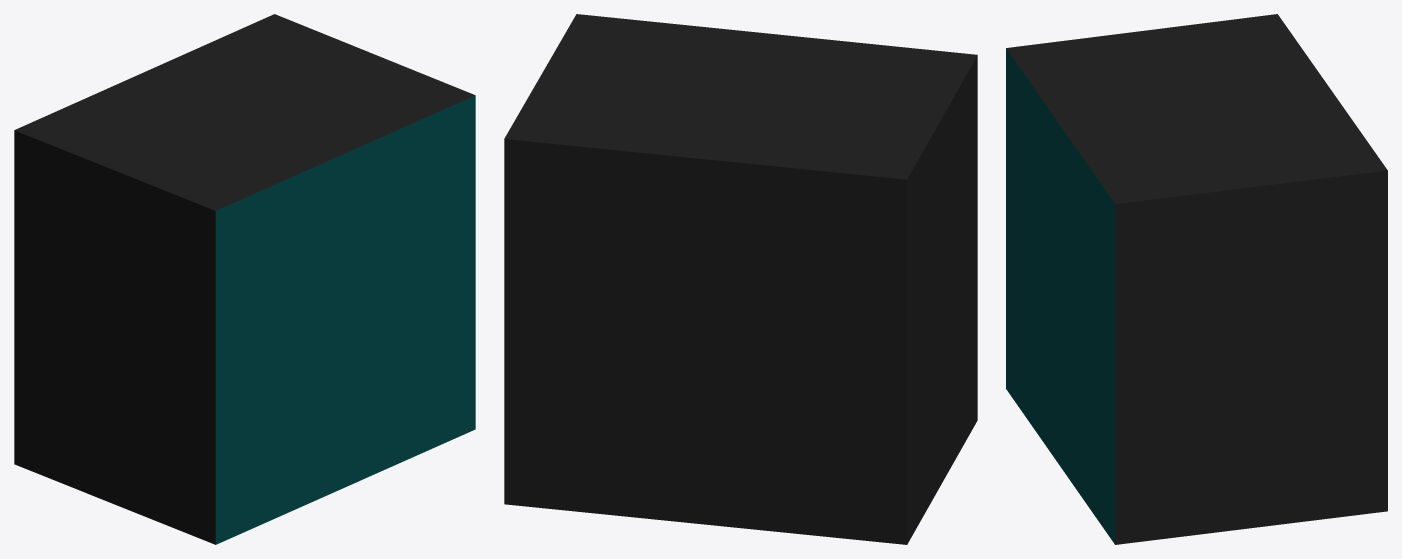
File: B_Werth_53_.FBX
The picture shows the model from 3 angles, left to right: view 1: azimuth 30°, elevation 25°; view 2: azimuth 150°, elevation 25°; view 3: azimuth 270°, elevation 25°; orthographic projection. The views are drawn at different scales.
Parts seen in each view (by area): view 1: B_Werth_53, B_Werth_53_front; view 2: B_Werth_53; view 3: B_Werth_53, B_Werth_53_front.
Part boxes in pixels (x1,y1,x2,y2): B_Werth_53: [14, 14, 475, 544]; B_Werth_53_front: [215, 95, 475, 544]; B_Werth_53: [504, 14, 977, 544]; B_Werth_53: [1006, 14, 1387, 544]; B_Werth_53_front: [1006, 48, 1115, 544].
Bounding box in the file's own units: 1915 × 1600 × 1625.
